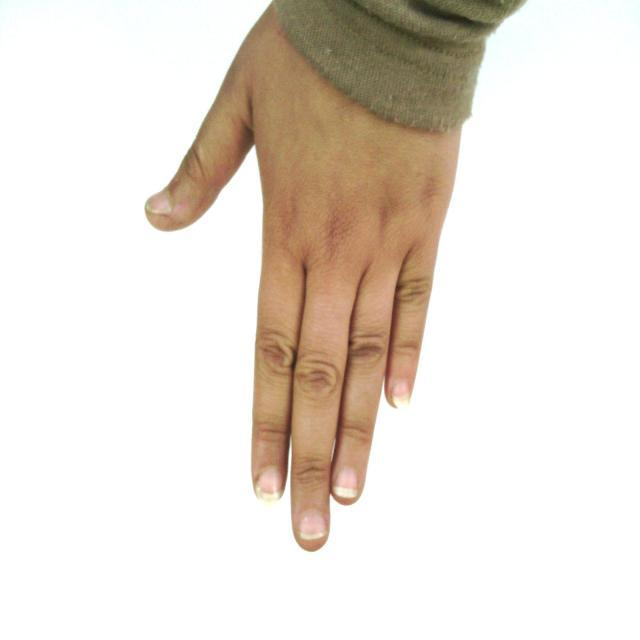Fingernail: (334, 466, 359, 497), (300, 511, 326, 539), (257, 471, 281, 501), (147, 191, 170, 215), (393, 382, 410, 409)
